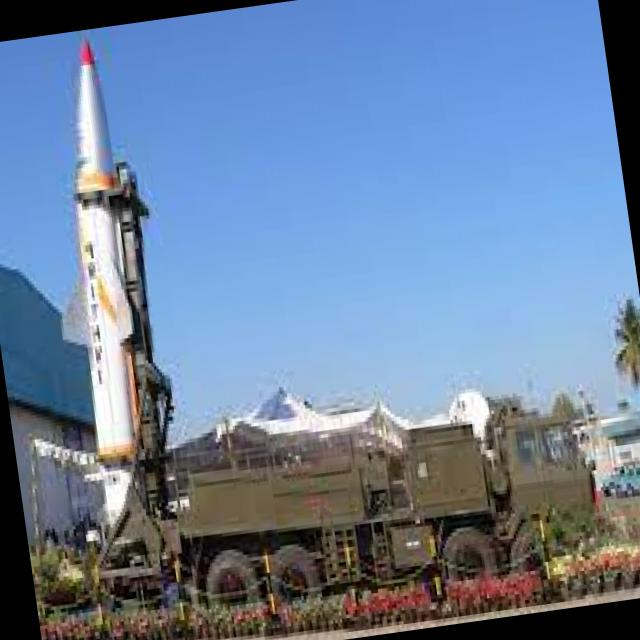rocket: (28, 43, 165, 537)
